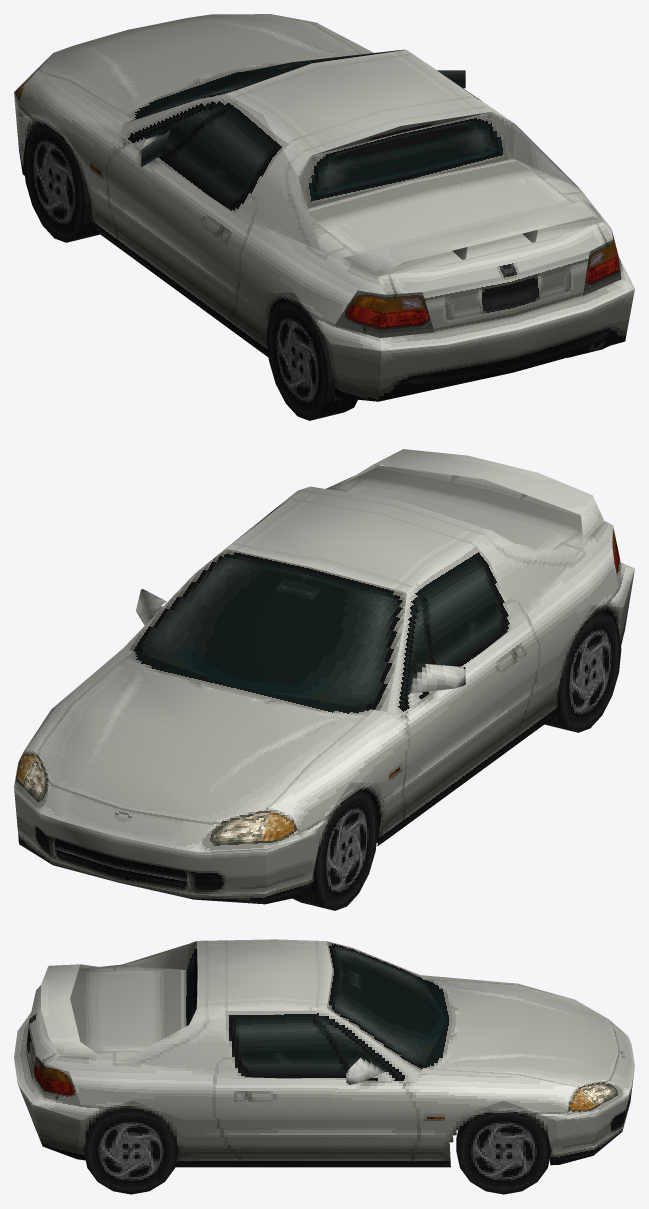
File: GT_SIMULATION__HDESN_NIGHT.glb
The picture shows the model from 3 angles, top to bottom: view 1: azimuth 30°, elevation 25°; view 2: azimuth 150°, elevation 25°; view 3: azimuth 270°, elevation 25°; orthographic projection. The views are drawn at different scales.
Visible parts, largest first — view 1: Native body LOD0, Native wheel 2, Native wheel 0; view 2: Native body LOD0, Native wheel 0, Native wheel 2; view 3: Native body LOD0, Native wheel 3, Native wheel 1.
Boxes of the visible parts, x1,y1,x2,y2 form: Native body LOD0: [14, 14, 634, 401]; Native wheel 2: [266, 299, 357, 420]; Native wheel 0: [23, 122, 99, 242]; Native body LOD0: [14, 449, 634, 904]; Native wheel 0: [292, 790, 377, 910]; Native wheel 2: [544, 610, 621, 732]; Native body LOD0: [14, 939, 634, 1167]; Native wheel 3: [83, 1108, 178, 1194]; Native wheel 1: [456, 1112, 551, 1194].
Bounding box in the file's own units: 1.83 × 1.22 × 3.96.
11 materials, 10 textured.
